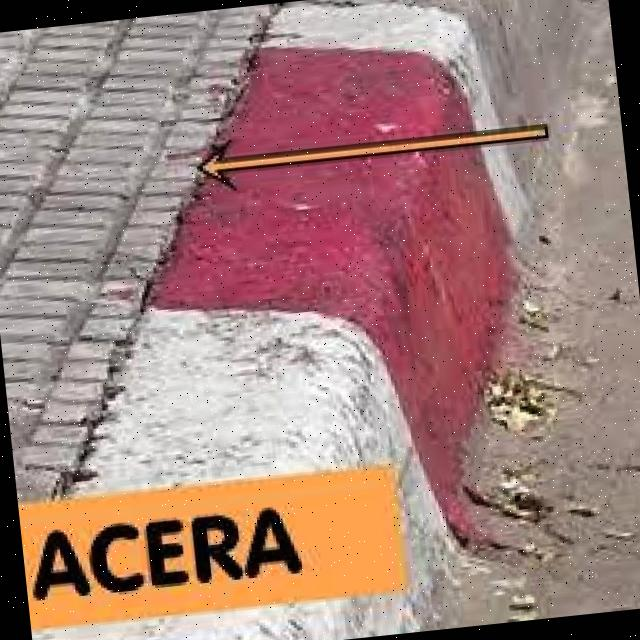curb: (49, 226, 517, 640), (224, 1, 624, 323)
